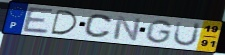C: (83, 13, 114, 39)
D: (50, 9, 79, 36)
E: (21, 6, 56, 35)
G: (144, 19, 175, 45)
N: (111, 15, 143, 43)
U: (171, 20, 202, 47)
